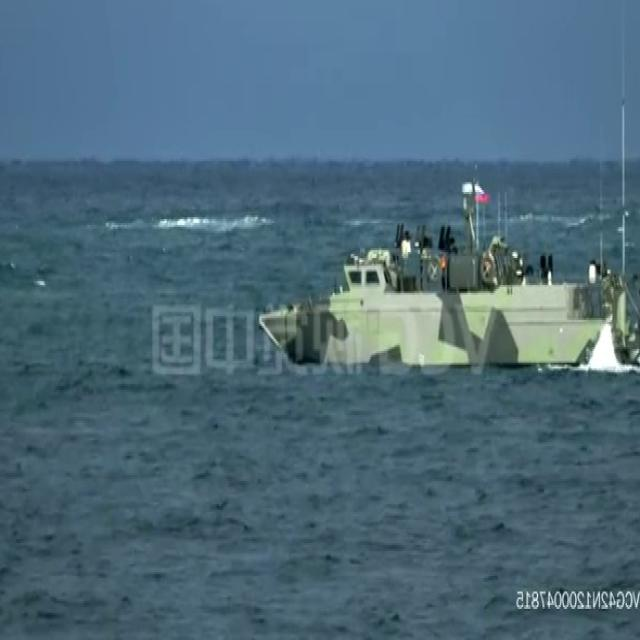houseboat: (261, 154, 640, 372)
